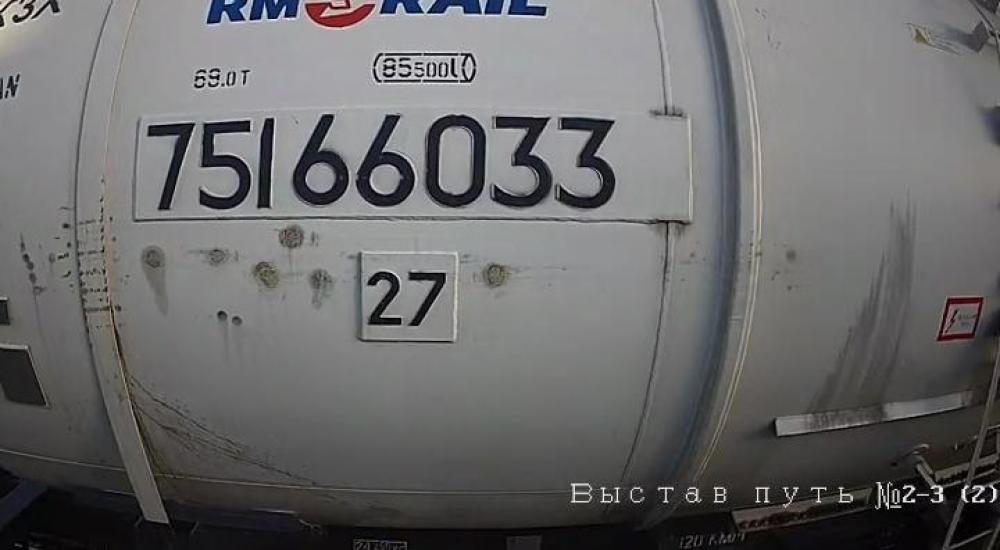Wagon-number: (143, 111, 623, 218)
